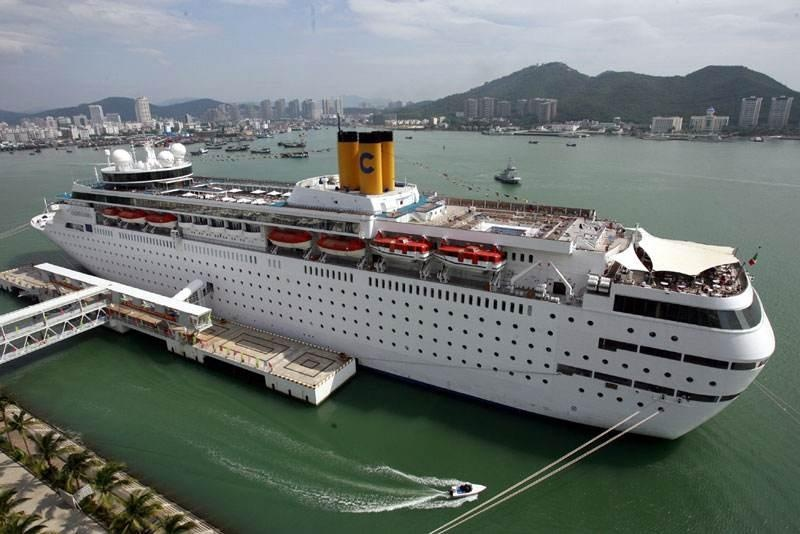otherboat: (491, 159, 529, 185), (449, 480, 486, 502)
youlun: (25, 116, 773, 457)
